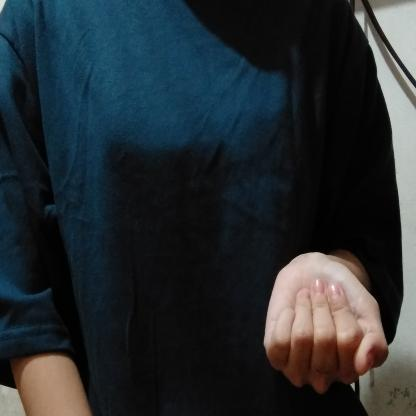where: (242, 235, 398, 398)
